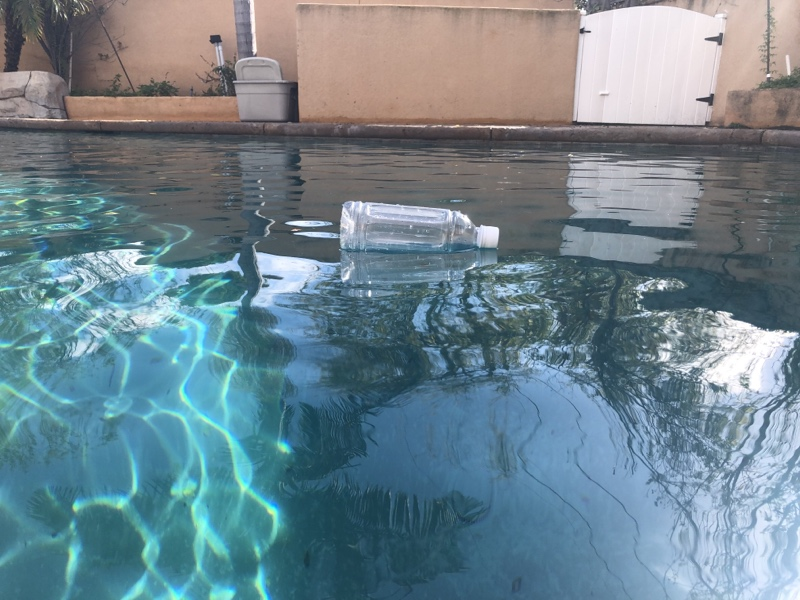Plastic Bottle: (336, 193, 504, 260)
